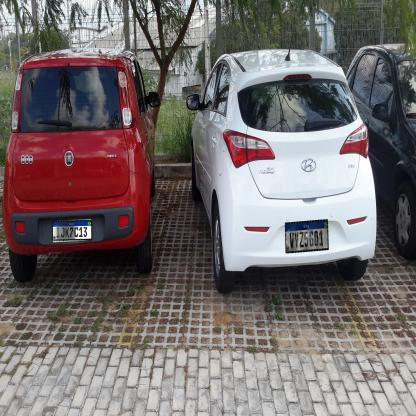PlacaM: (285, 220, 329, 254), (52, 220, 92, 241)
